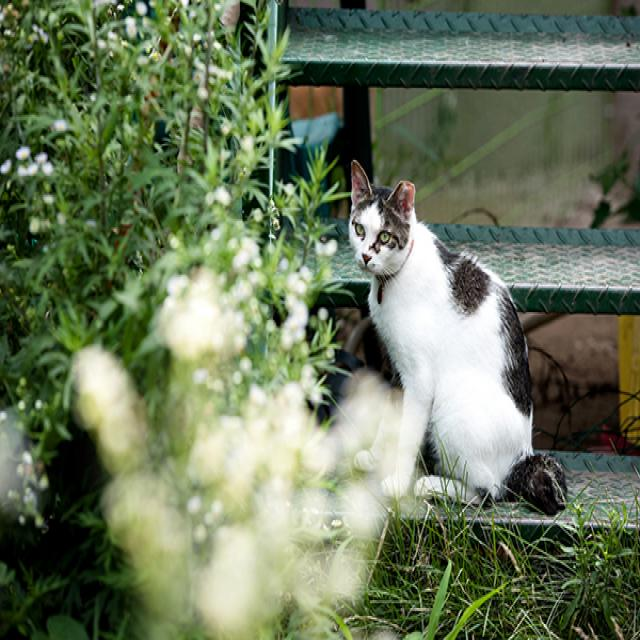cat: (333, 152, 579, 530)
